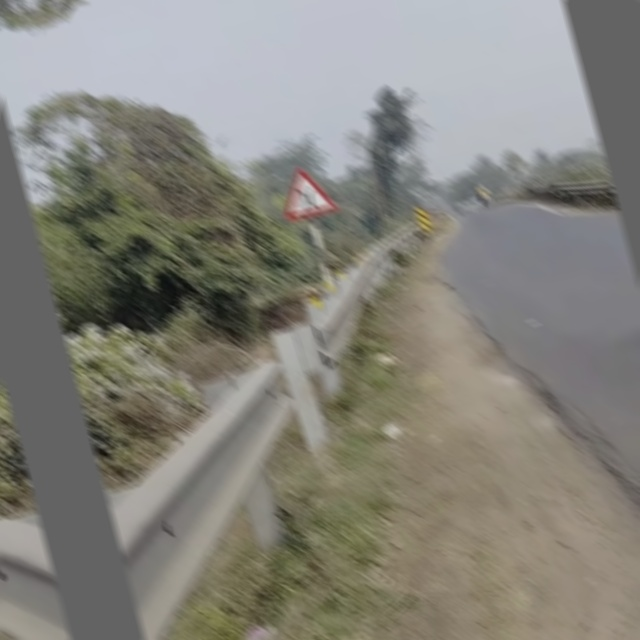Narrow_Bridge: (276, 161, 337, 222)
